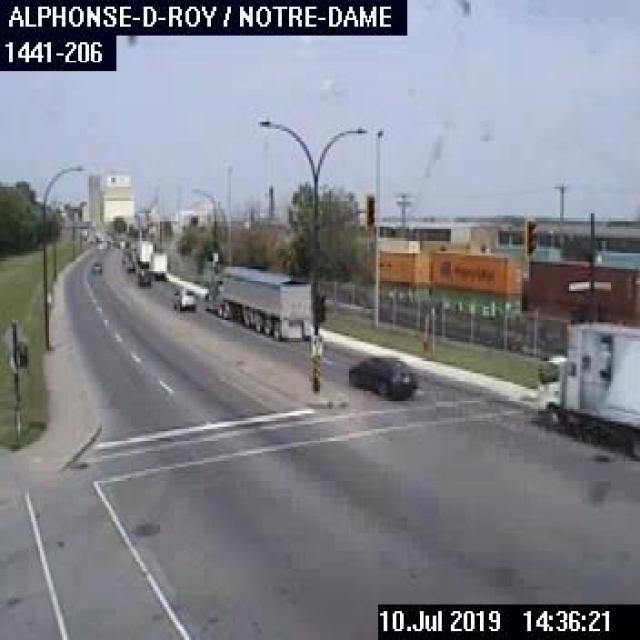vehicle: (533, 318, 638, 458), (202, 262, 315, 342), (346, 351, 414, 398), (171, 283, 196, 313), (146, 250, 166, 279), (113, 235, 129, 249), (136, 268, 149, 284), (91, 260, 100, 273)
